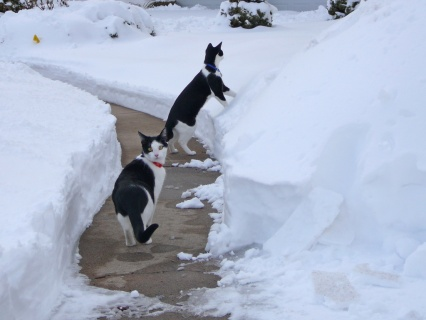Cat: (165, 41, 236, 156), (111, 127, 168, 248)
